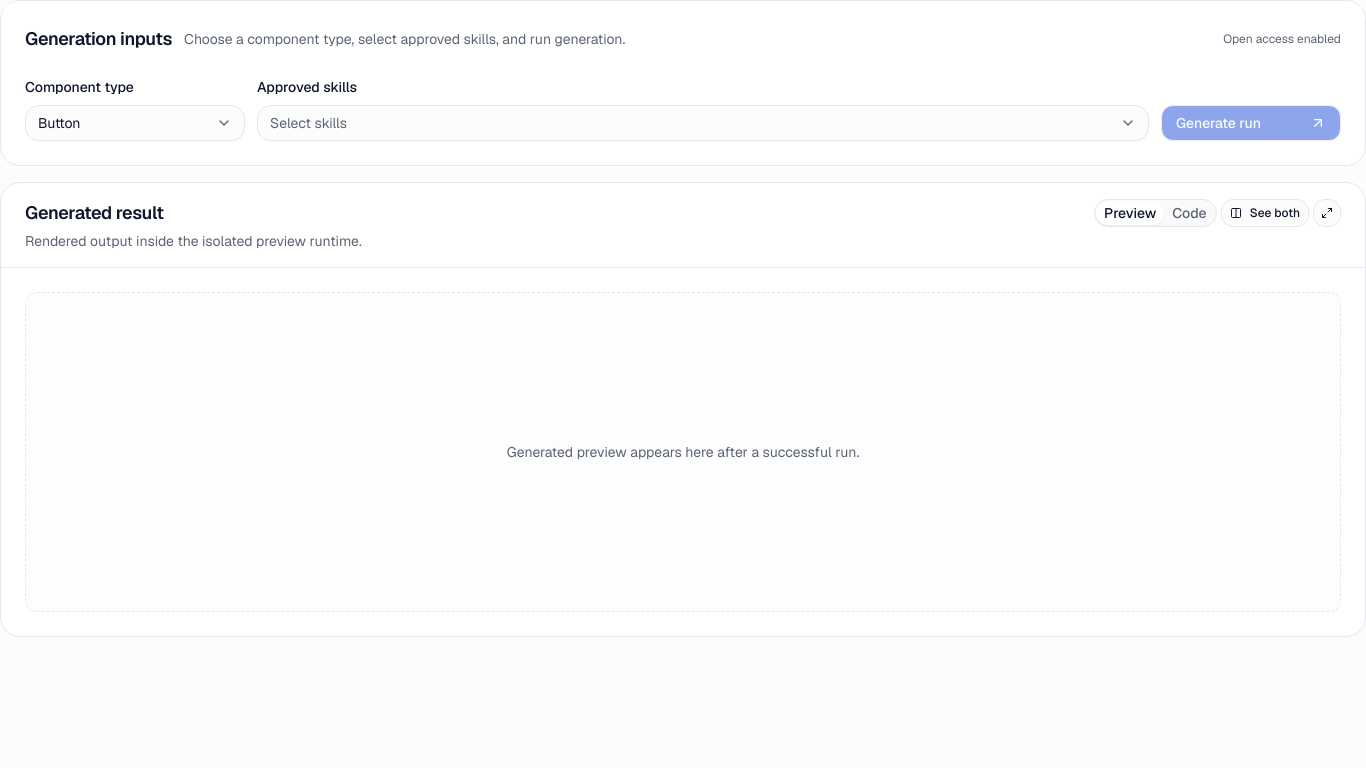
Test case: shows a loading placeholder while a generation request is pending
The width and height of the screenshot is (1366, 768).
expect the button "Select skills" is shown: met, box [257,105,1149,141]
Step 1. Click the button named "component type button" → (135, 123), box [25,105,245,141]
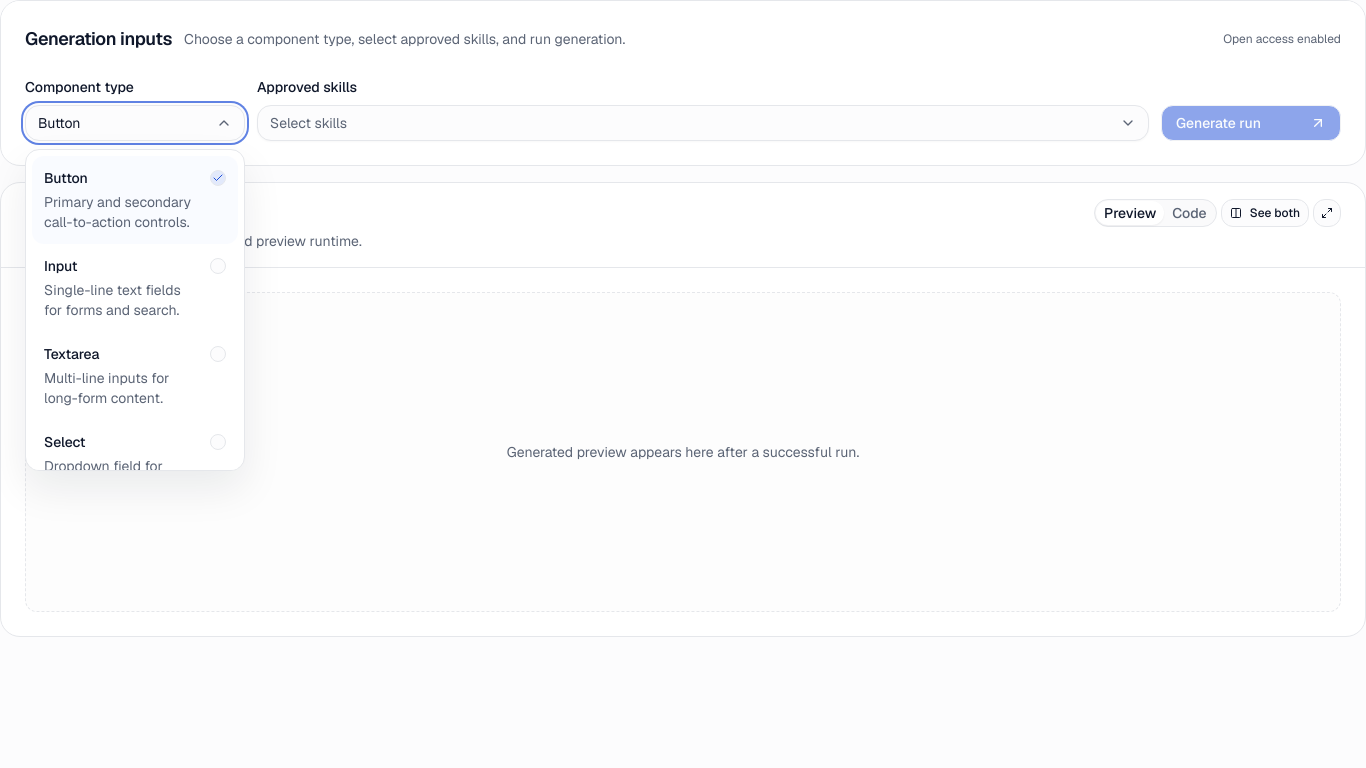
Step 2. Click the text "Input" → (61, 266), box [44,257,77,275]
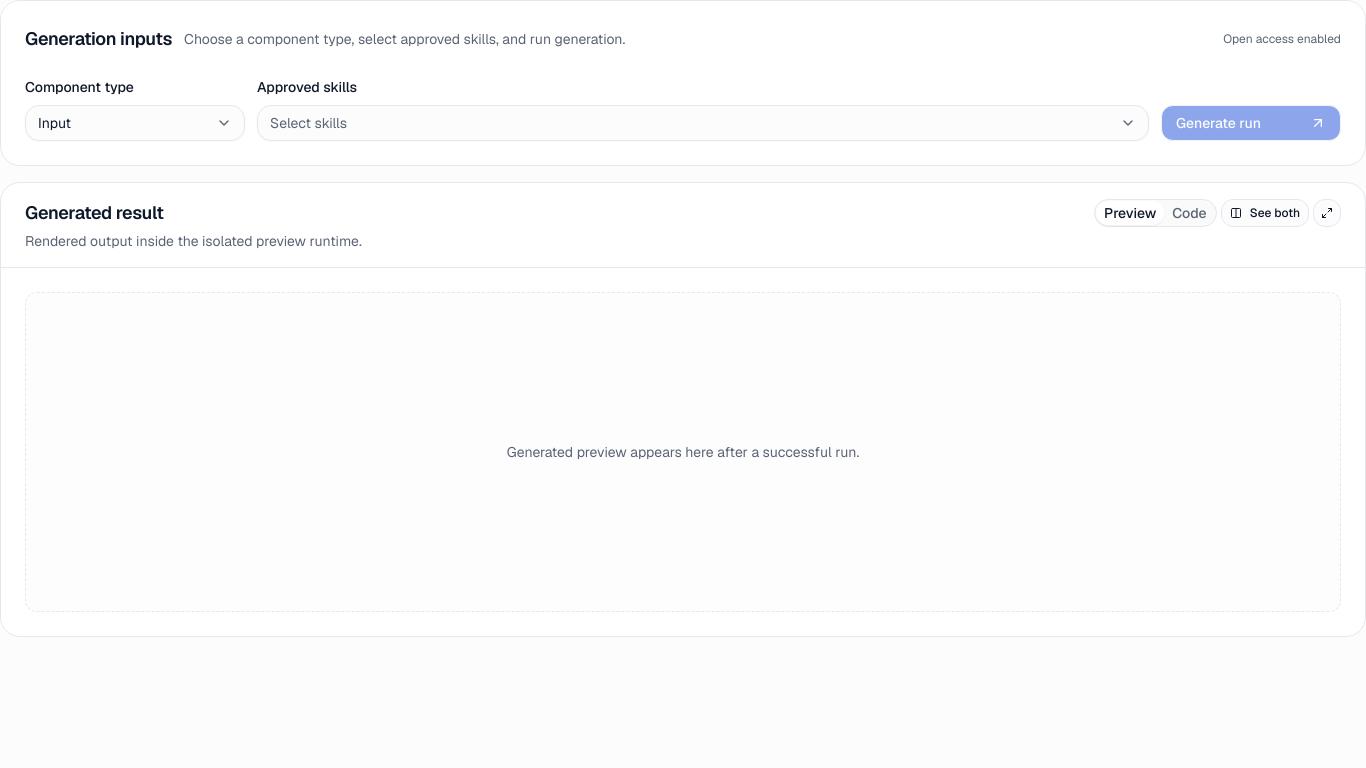
Step 3. Click the button "Select skills" → (309, 123), box [257,105,1149,141]
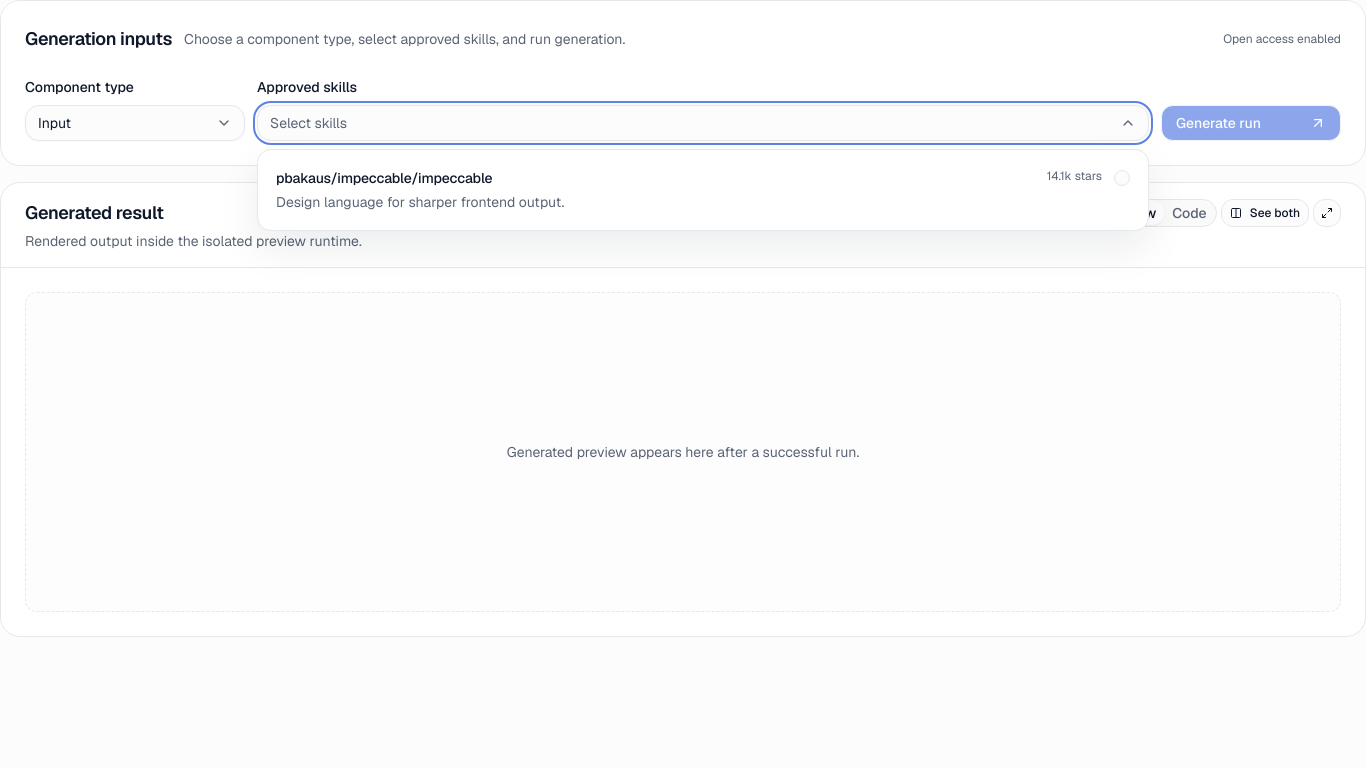
Step 4. Click the text "pbakaus/impeccable/impeccable" → (384, 178), box [276,168,492,188]
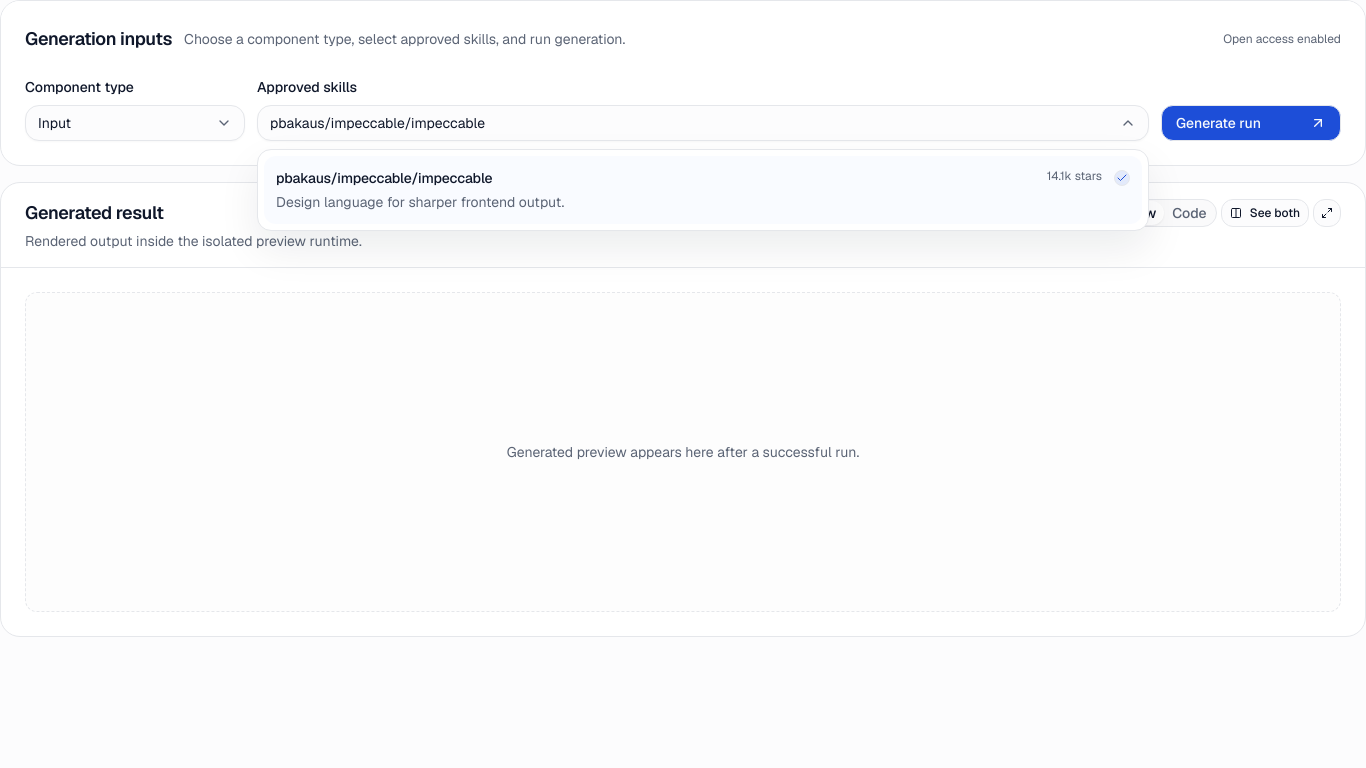
Step 5. Click the button "Generate run" → (1251, 123), box [1161,105,1341,141]
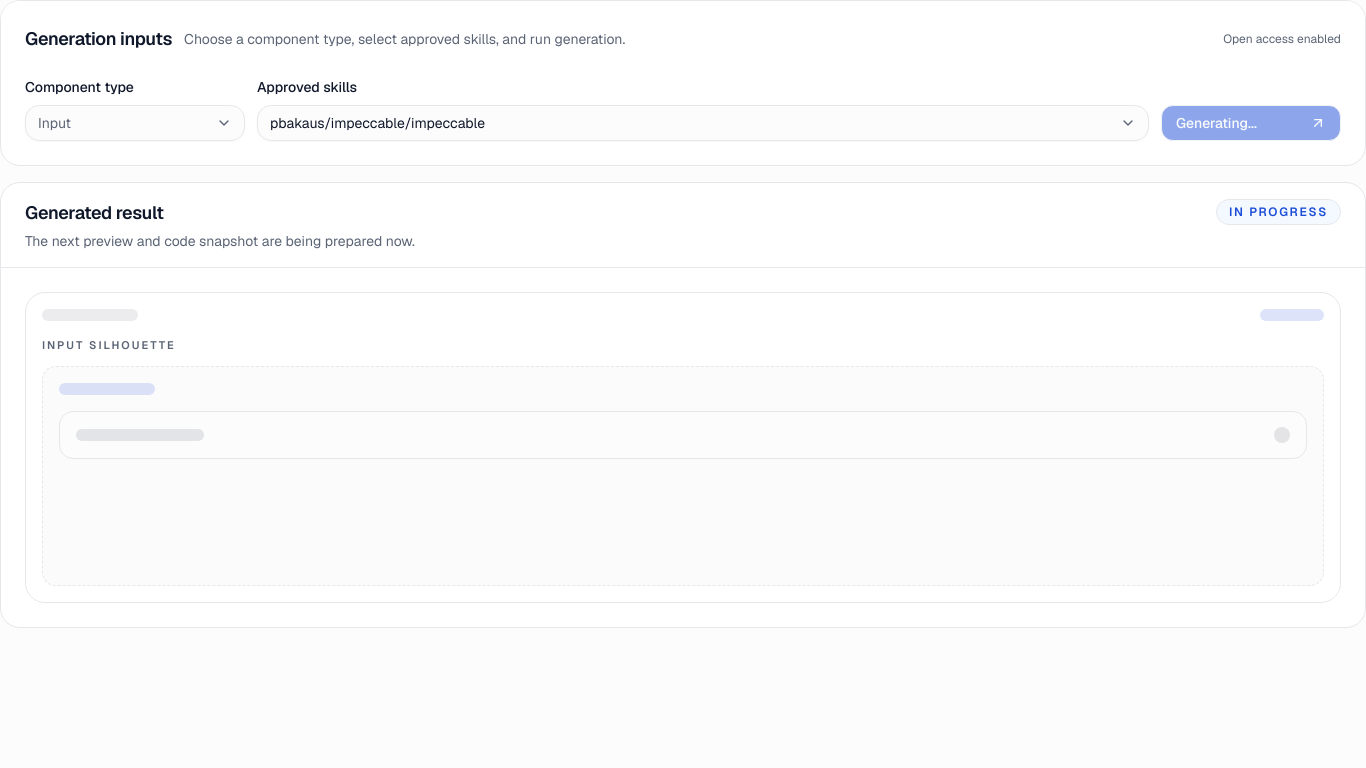
expect the text "Input silhouette" is shown: met, box [42,338,176,352]
